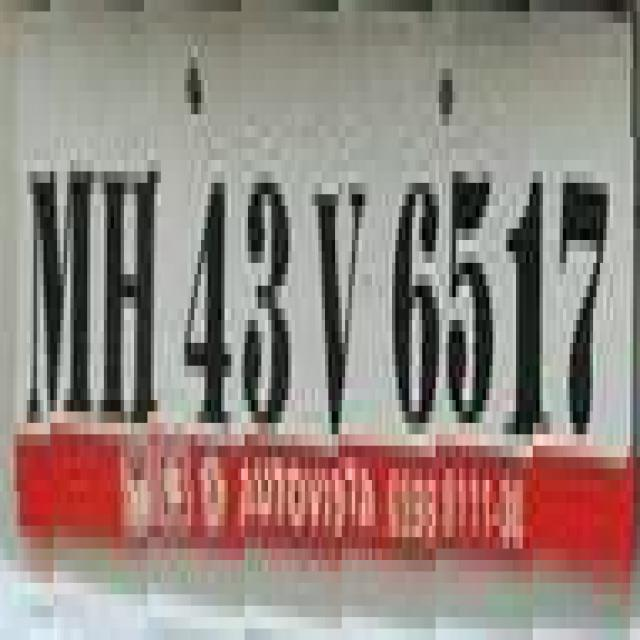license_plate: (20, 0, 640, 514)
